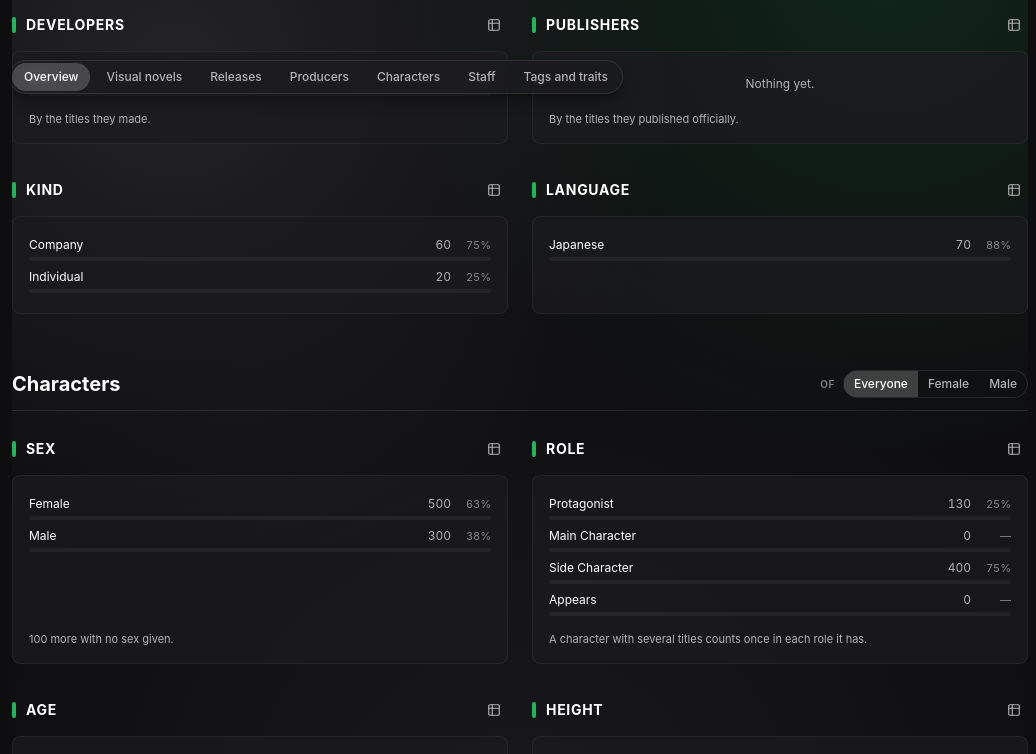
Test: SiteStats › follows one choice of sex through the character charts
This screenshot has width=1036, height=754.
(page scrolled)
What coordinates should you click on to do the following:
click the radio button labelled "Female"
I would click on:
 (948, 384)
Its box is [918,371,979,397].
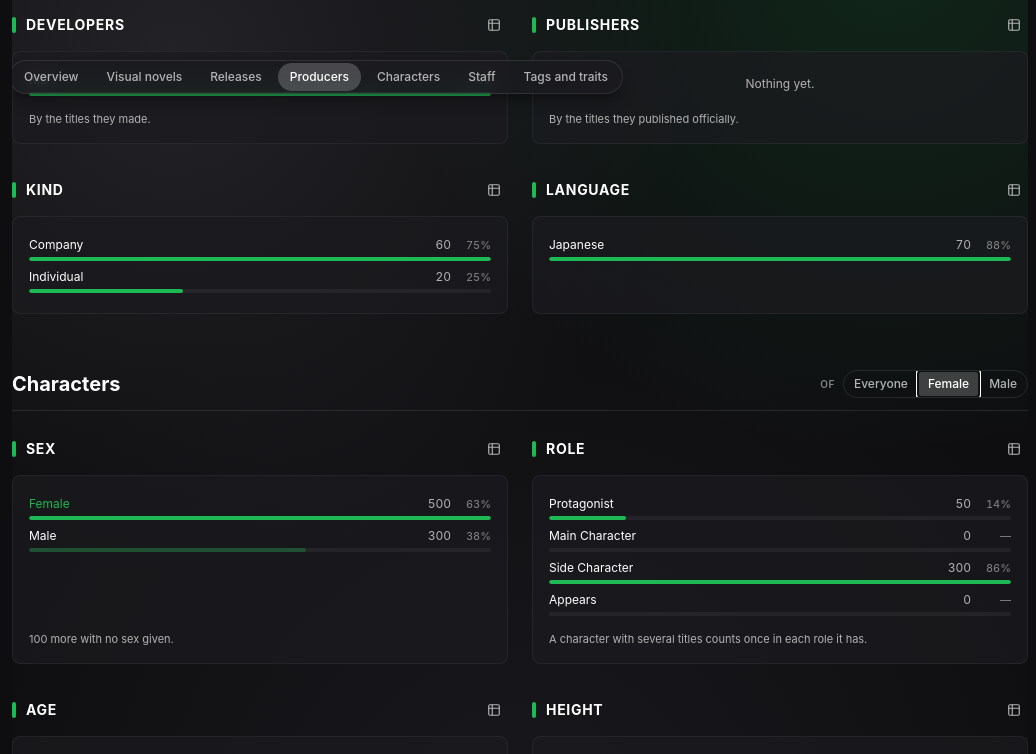
Expected: the text "Female" is shown, [29,496,70,511]
What coordinates should you click on to do the following:
click the radio button labelled "Male"
I would click on:
 (1003, 384)
Its box is [979,371,1027,397].
(page scrolled)
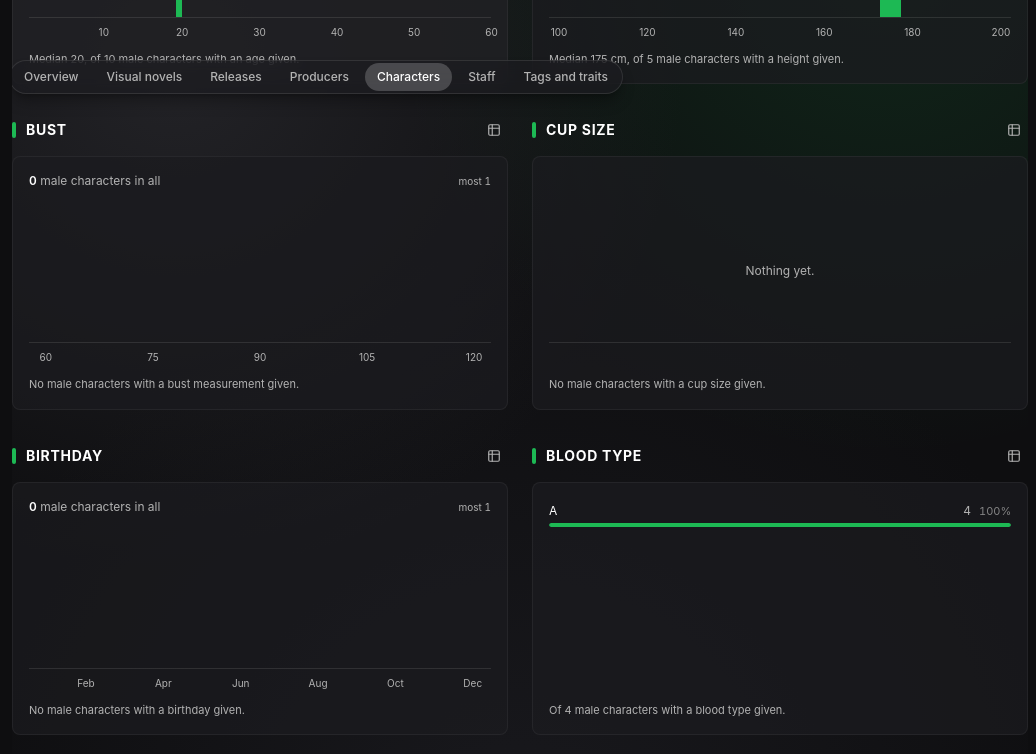
Result: the text "No male characters with a cup size given." is shown at [549,377,766,391]
Result: the text "No male characters with a bust measurement given." is shown at [29,377,299,391]
